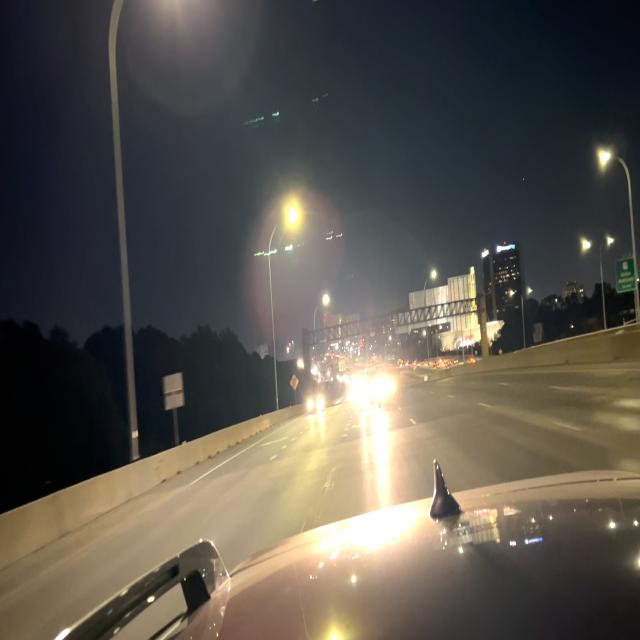back-of-sign: (392, 266, 478, 338), (163, 371, 185, 414), (289, 372, 300, 392)
